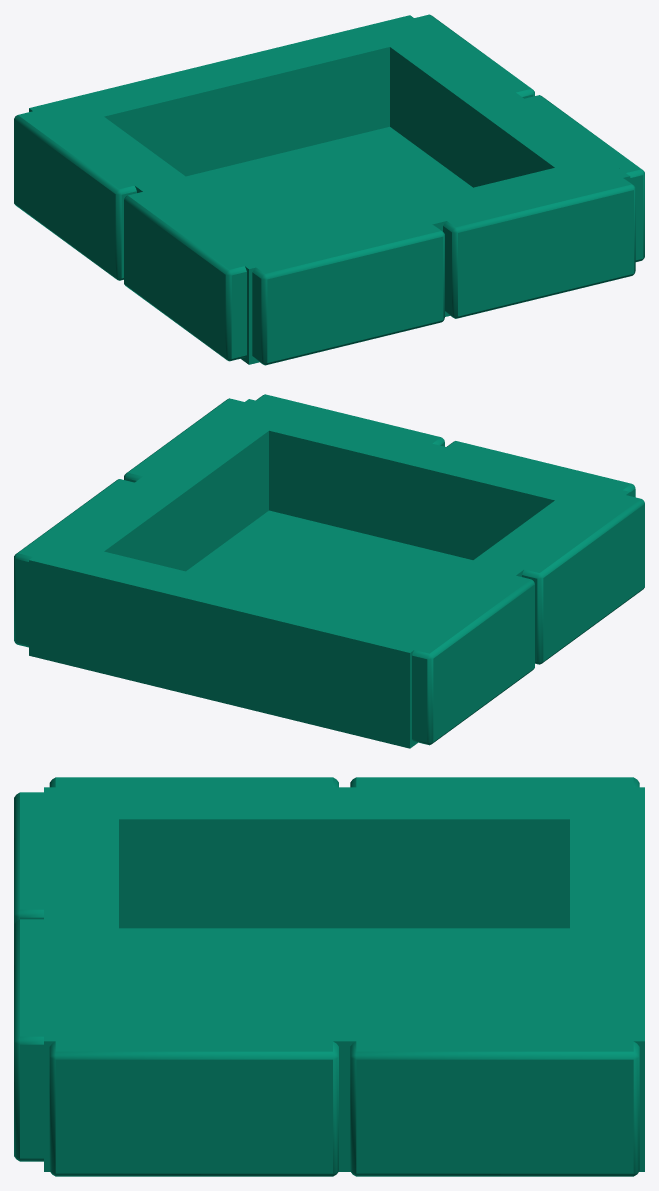
Rendered from disposal.fbx.
The picture shows the model from 3 angles, top to bottom: view 1: azimuth 30°, elevation 25°; view 2: azimuth 150°, elevation 25°; view 3: azimuth 270°, elevation 25°; orthographic projection. The views are drawn at different scales.
Parts seen in each view (by area): view 1: disposal; view 2: disposal; view 3: disposal.
Part boxes in pixels (box(x1,y1,x2,y2)): disposal: box(14, 14, 644, 365); disposal: box(14, 394, 644, 748); disposal: box(14, 777, 644, 1176).
Bounding box in the file's own units: 2.2 × 0.4796 × 2.1.
